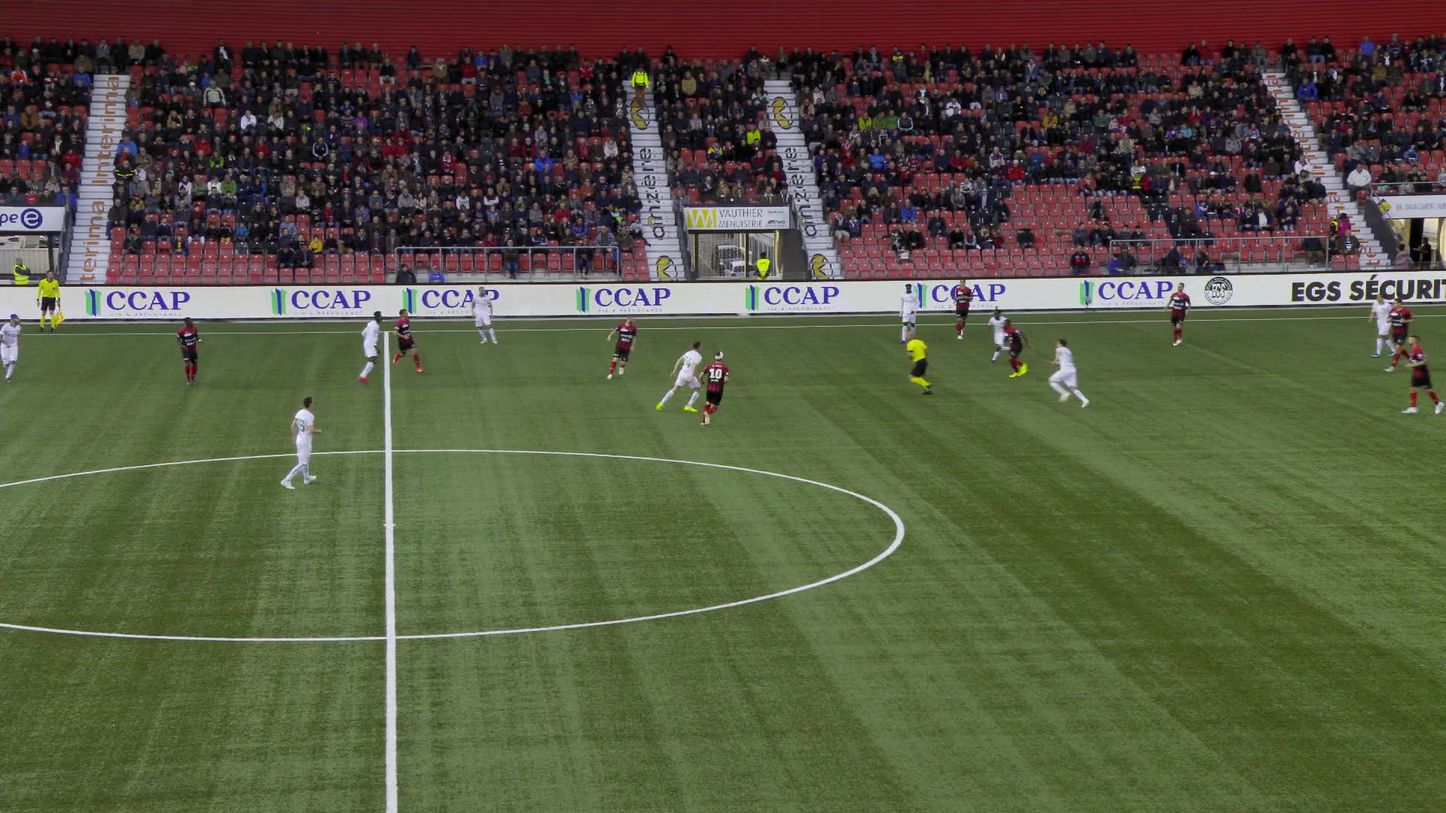ball: (738, 309, 749, 318)
player: (286, 395, 327, 487), (1047, 339, 1096, 406), (658, 342, 701, 413), (1384, 300, 1420, 373), (697, 351, 731, 428), (1411, 339, 1441, 415), (608, 314, 639, 377), (361, 309, 386, 382), (1003, 317, 1031, 379), (176, 317, 200, 386), (1371, 291, 1396, 357), (1168, 282, 1193, 346), (0, 313, 22, 382), (471, 287, 498, 343), (988, 308, 1016, 361), (393, 315, 416, 374), (899, 283, 921, 341), (953, 280, 973, 338)
referee: (907, 329, 945, 394), (38, 271, 66, 331)
